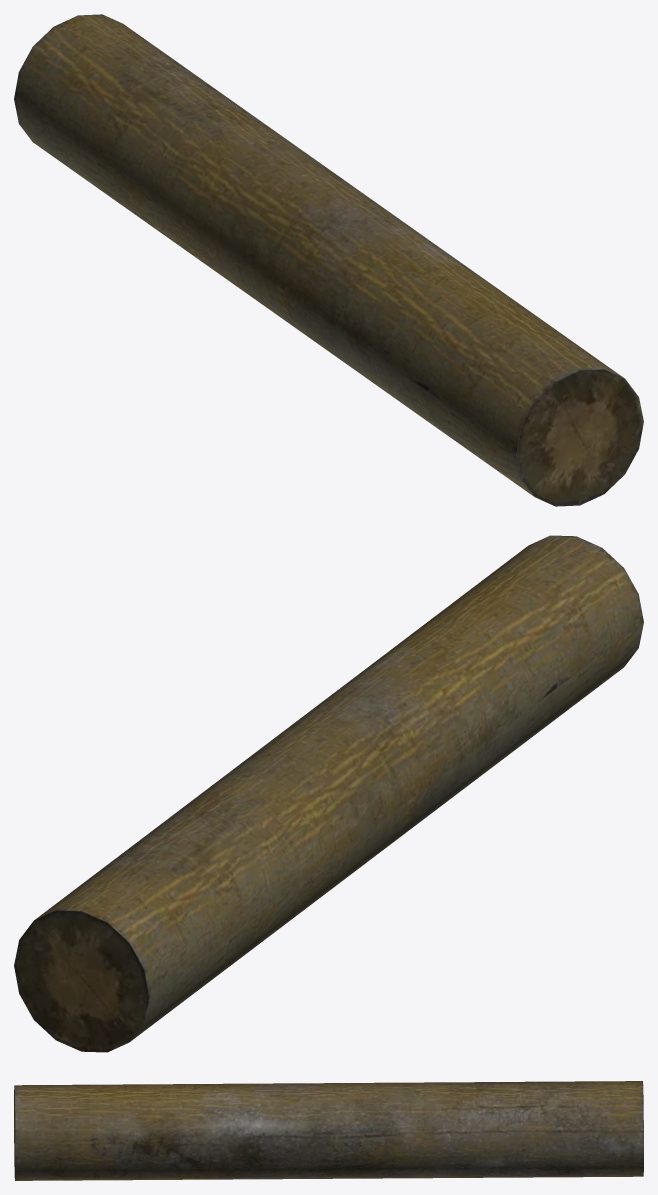
Rendered from SupportWoodC.glb.
The picture shows the model from 3 angles, top to bottom: view 1: azimuth 30°, elevation 25°; view 2: azimuth 150°, elevation 25°; view 3: azimuth 270°, elevation 25°; orthographic projection. The views are drawn at different scales.
Parts seen in each view (by area): view 1: SupportWoodC; view 2: SupportWoodC; view 3: SupportWoodC.
Part boxes in pixels (x1,y1,x2,y2): SupportWoodC: [14, 14, 643, 506]; SupportWoodC: [14, 535, 643, 1052]; SupportWoodC: [14, 1081, 643, 1180].
Size of the model in its own units: 0.1982 by 0.1803 by 1.18.
Materials: 1 (1 with a texture image).
